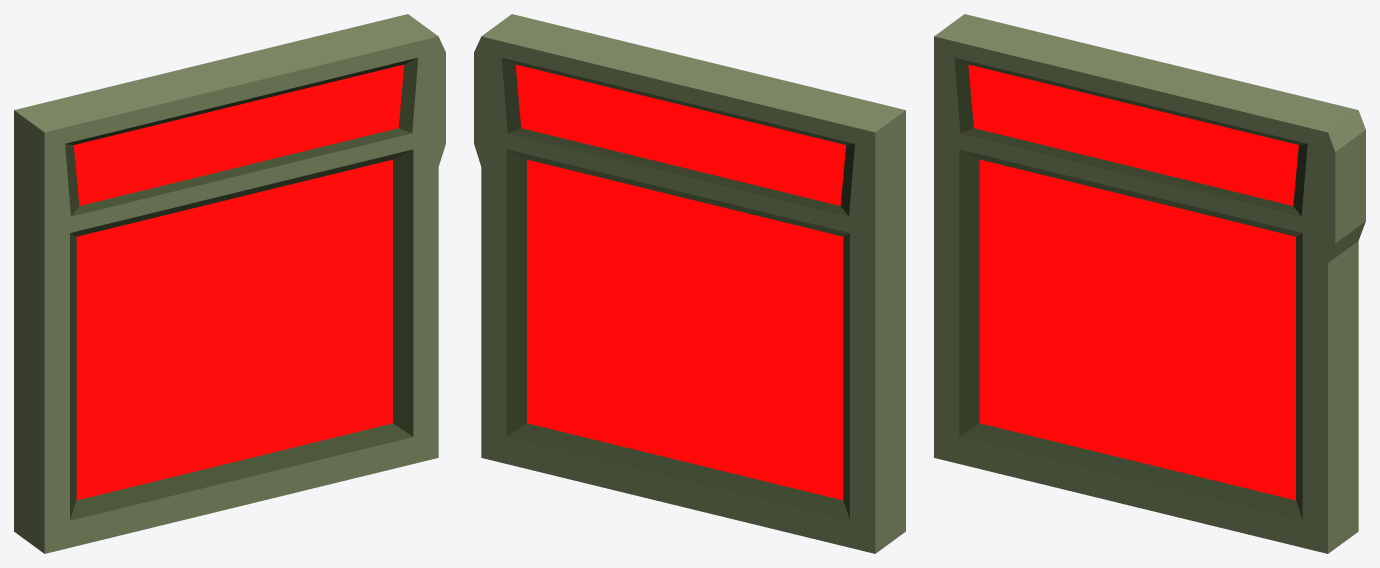
The model's file is Cartucho Red Glow.fbx.
The picture shows the model from 3 angles, left to right: view 1: azimuth 30°, elevation 25°; view 2: azimuth 150°, elevation 25°; view 3: azimuth 330°, elevation 25°; orthographic projection.
Parts seen in each view (by area): view 1: Cartucho Normal; view 2: Cartucho Normal; view 3: Cartucho Normal.
Part boxes in pixels (x1,y1,x2,y2): Cartucho Normal: (14, 14, 445, 553); Cartucho Normal: (474, 14, 905, 553); Cartucho Normal: (934, 14, 1365, 553).
Size of the model in its own units: 129 by 17 by 129.
